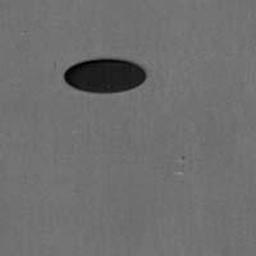Punching: (61, 59, 146, 93)
